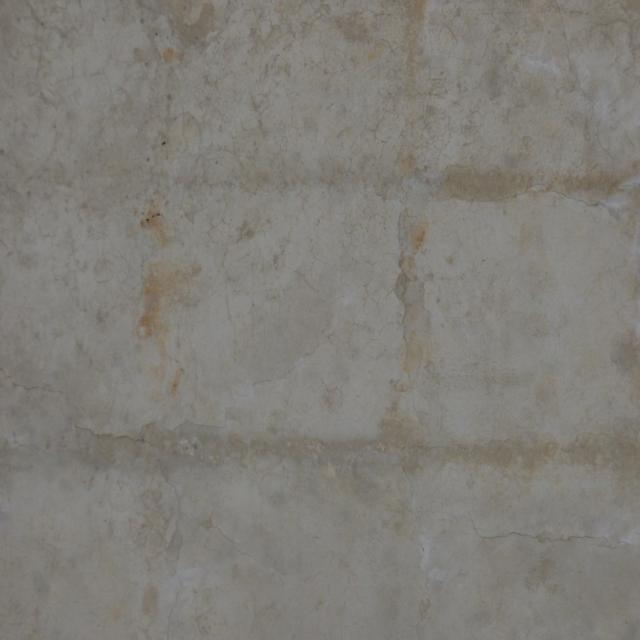corrosion: (112, 182, 209, 431), (384, 198, 461, 290), (140, 30, 190, 82)
